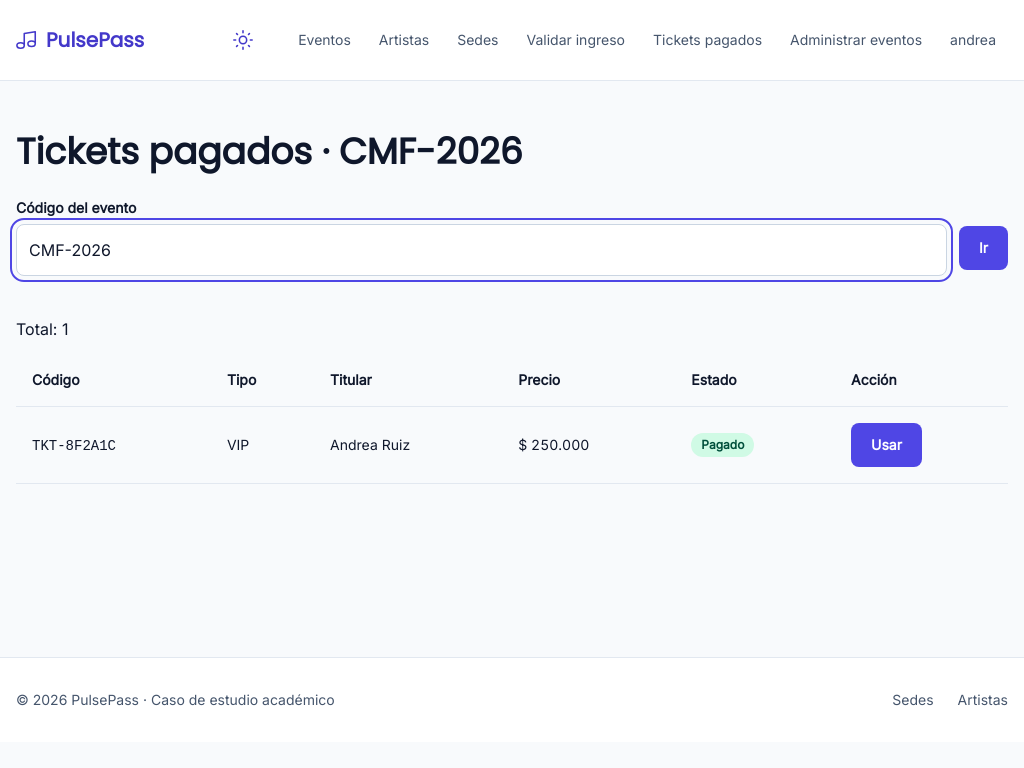
usar desde la tabla conserva la fila y muestra el error 403
Click the button "Usar". click: (886, 445)
box: [851, 423, 922, 467]
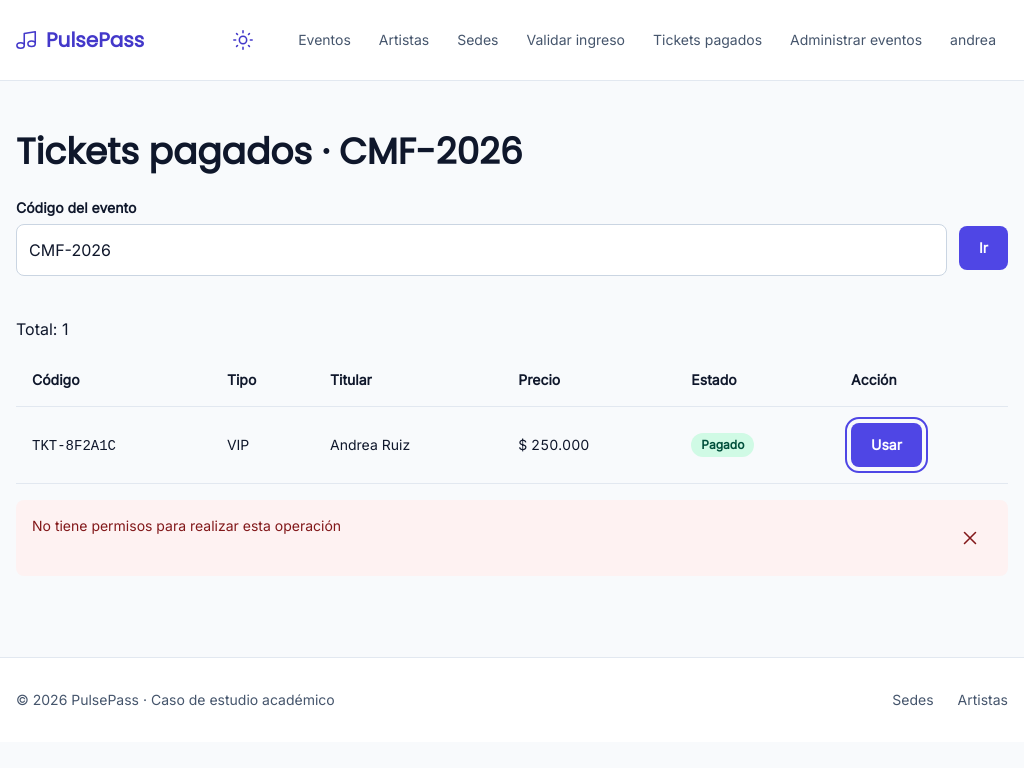
Expected: the text "Andrea Ruiz" is shown, [330, 436, 410, 453]
Result: the text "No tiene permisos para realizar esta operación" is shown at [32, 516, 341, 536]
